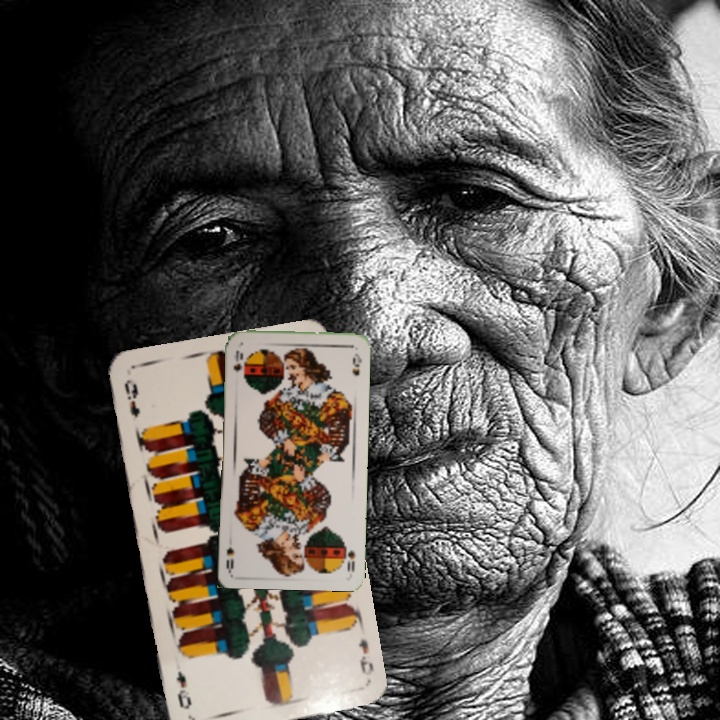E9: (120, 375, 142, 420), (354, 635, 376, 678)
SO: (230, 346, 245, 374), (343, 546, 357, 574)
